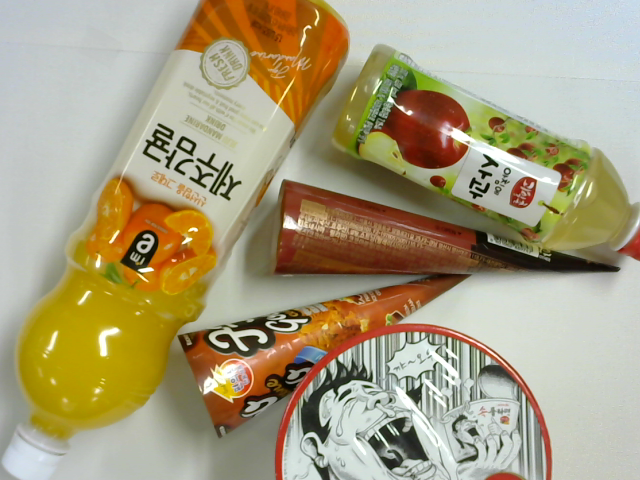GooGoo_Cone_CVS: (174, 274, 470, 437)
Hejangpul: (278, 324, 554, 480)
Jeju_Tangerine_1.5L: (3, 3, 353, 479)
Morning_Apple_500ml: (331, 44, 640, 259)
World_Cone_Choco: (271, 180, 625, 273)
